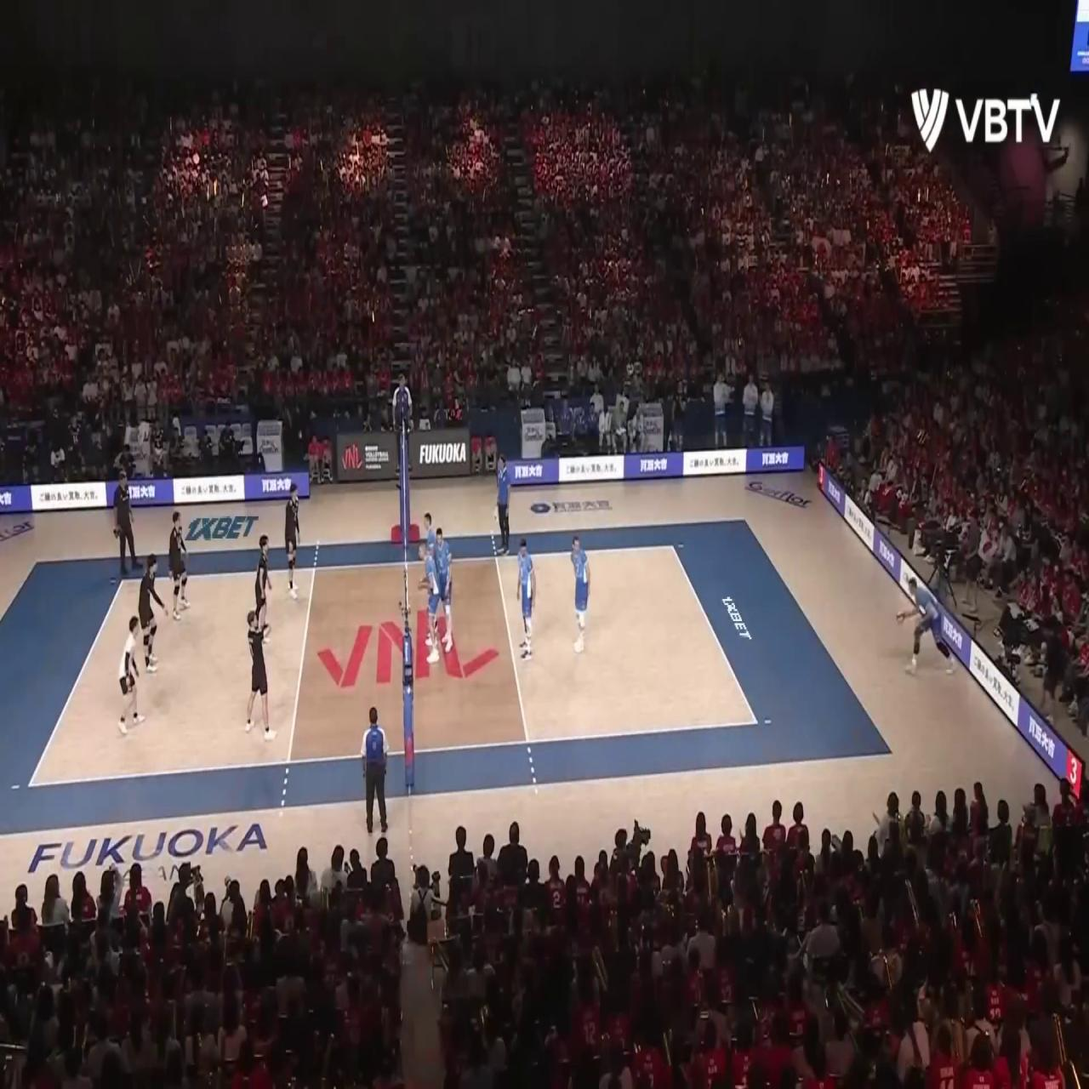ball: (897, 609, 906, 625)
